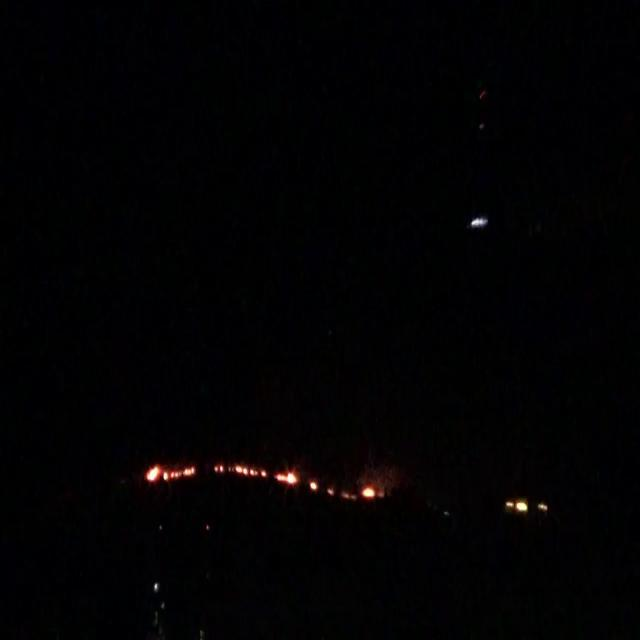Fire: (142, 465, 192, 481), (217, 463, 266, 477), (338, 486, 378, 502), (505, 498, 527, 514), (277, 470, 297, 486), (310, 480, 318, 490)
